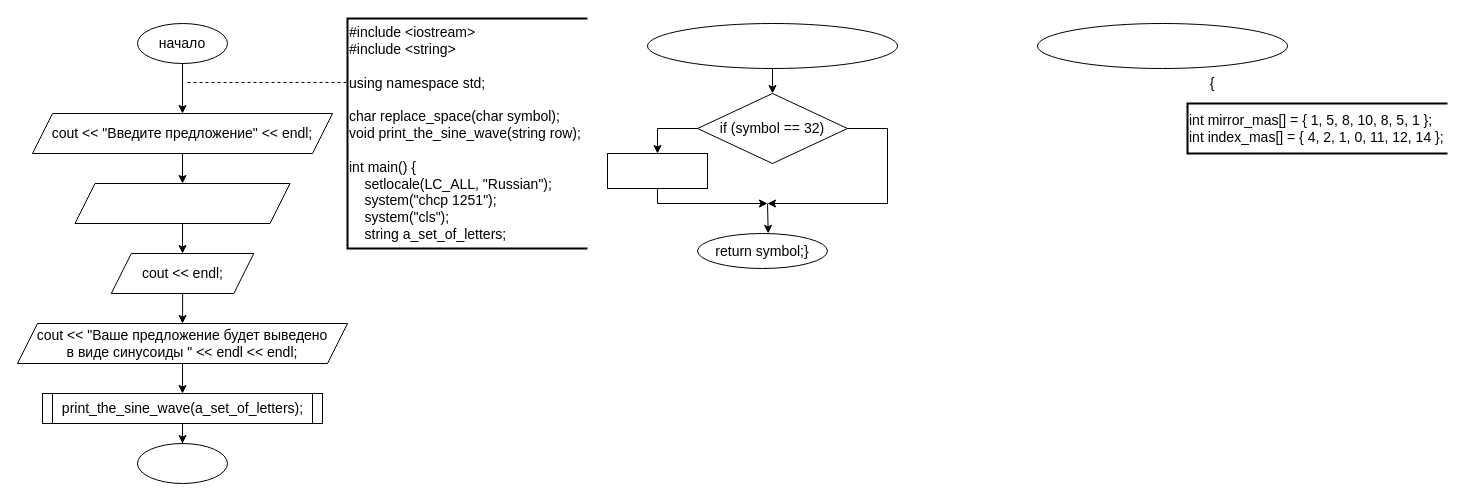
This 1466x501 diagram has some shape labels left out. The centre of each missing label's shape, as x and y in pixels:
char replace_space(char symbol) {: (x=772, y=45)
getline(cin, a_set_of_letters);: (x=182, y=203)
return 0;}: (x=182, y=463)
symbol = '_';: (x=657, y=170)
void print_the_sine_wave(string row): (x=1162, y=45)
